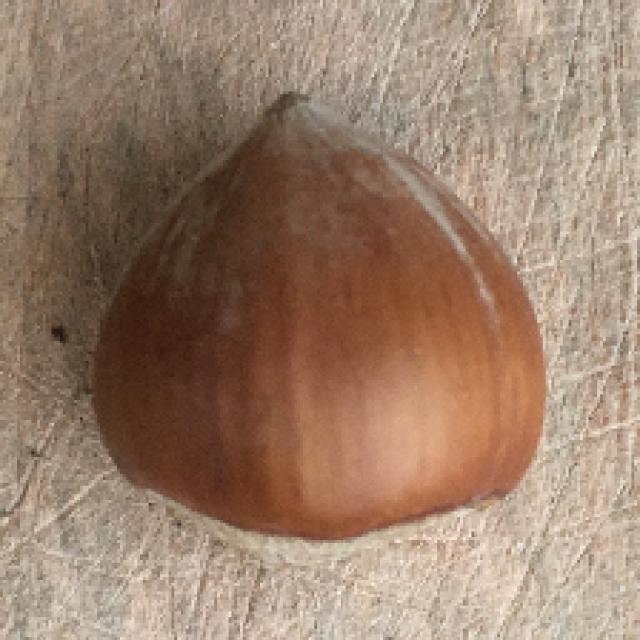DamagedHazelnut: (93, 94, 549, 567)
